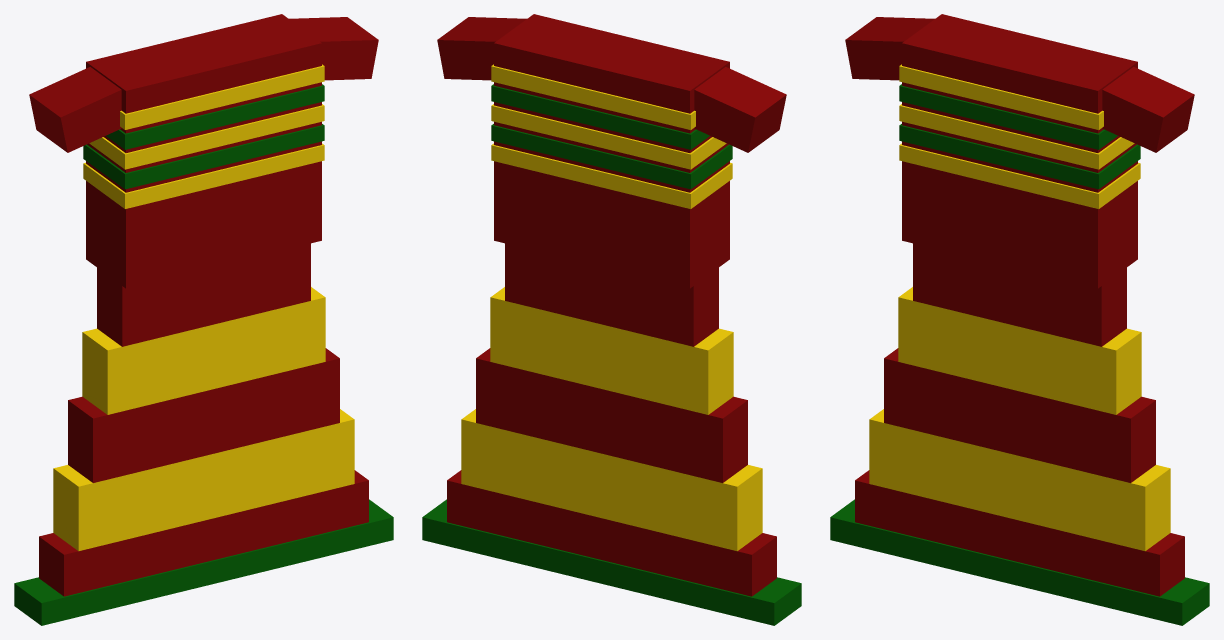
File: dhaka_set.glb
3 renders of one model, left to right at view 1: azimuth 30°, elevation 25°; view 2: azimuth 150°, elevation 25°; view 3: azimuth 330°, elevation 25°, orthographic.
Bounding box in the file's own units: 0.97 × 1.37 × 0.2.
